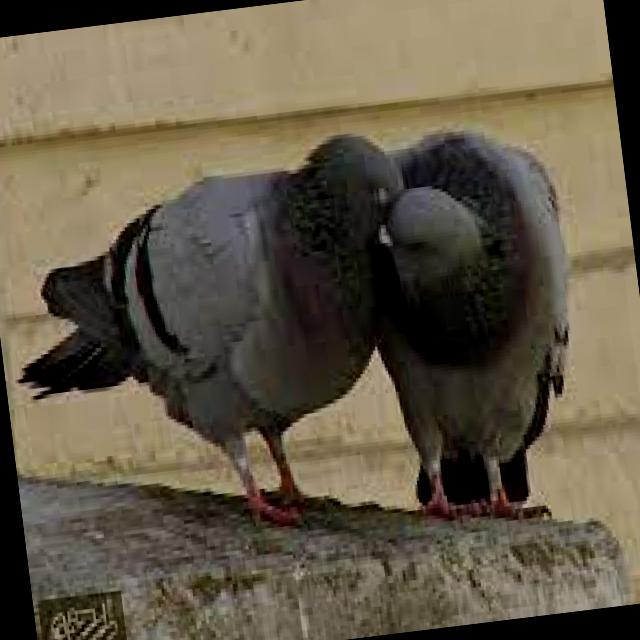bird: (0, 126, 439, 561), (351, 106, 605, 540)
